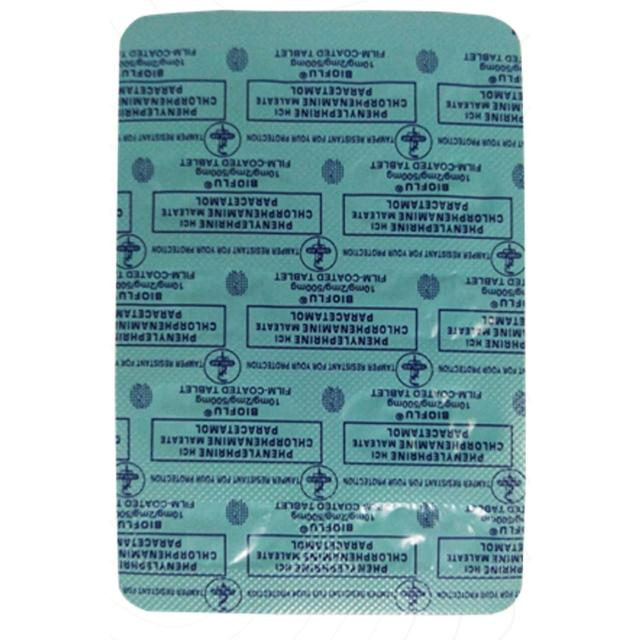blister: (113, 6, 526, 619)
